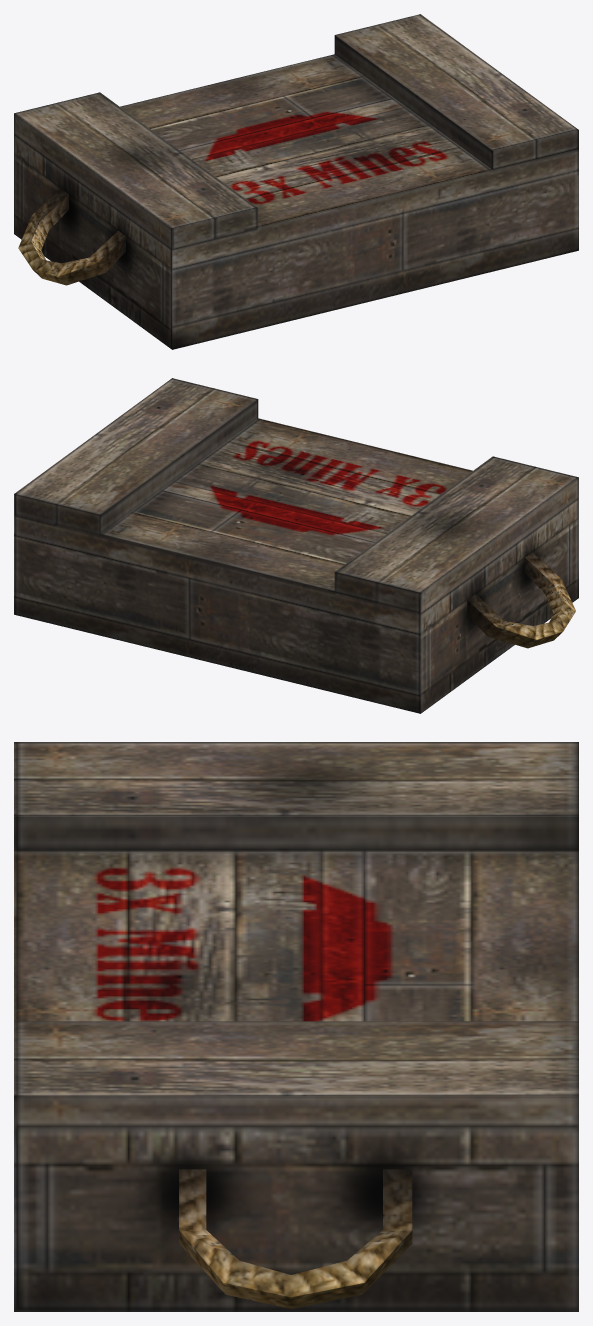
The model's file is 3_Mines.obj.
3 renders of one model, top to bottom at view 1: azimuth 30°, elevation 25°; view 2: azimuth 150°, elevation 25°; view 3: azimuth 270°, elevation 25°, orthographic. The views are drawn at different scales.
Parts seen in each view (by area): view 1: Mines_3; view 2: Mines_3; view 3: Mines_3.
Boxes of the visible parts, box(x1,y1,x2,y2) form: Mines_3: box(14, 14, 578, 349); Mines_3: box(14, 378, 578, 713); Mines_3: box(14, 742, 578, 1311).
Size of the model in its own units: 19.84 by 4.31 by 10.25.
